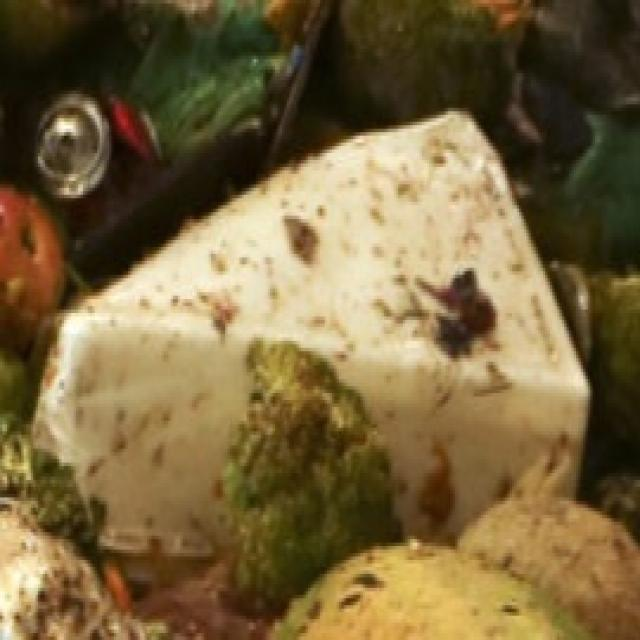food waste: (26, 0, 614, 626)
